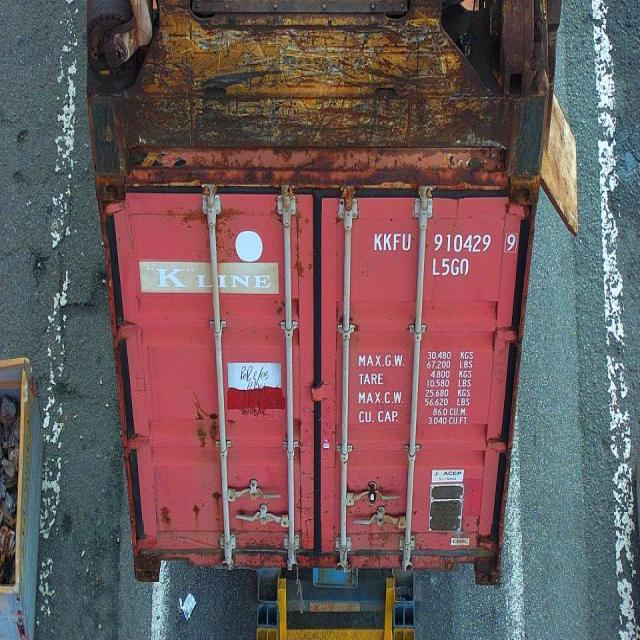ISO: (432, 256, 474, 276)
container_number: (374, 229, 520, 254)
